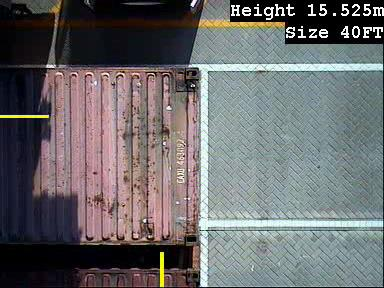groundmarker_2: (88, 168, 174, 221)
